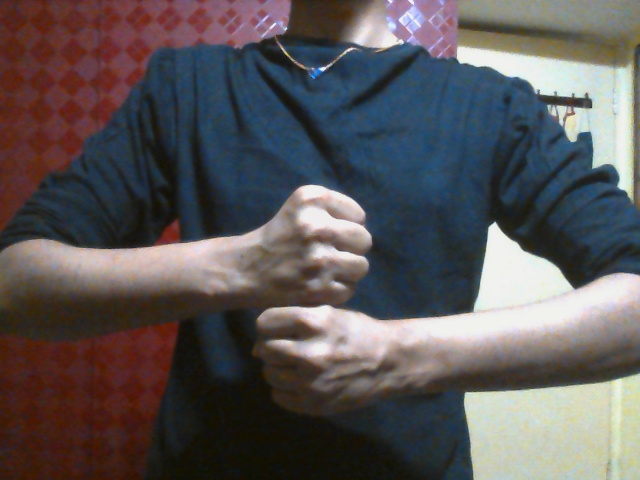G: (250, 184, 388, 418)
